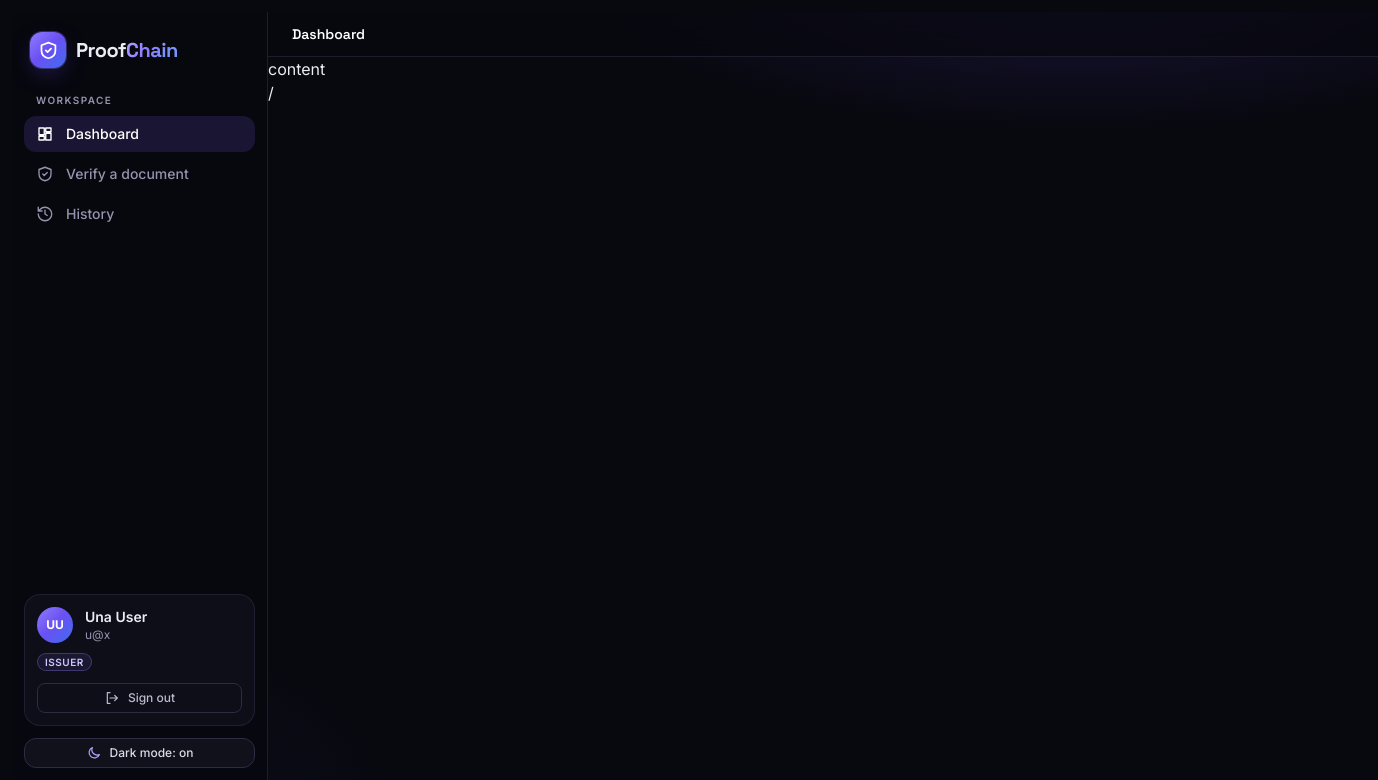
Scenario: AppShell user menu › sign out clears the session through the auth context and goes to /login
Click the button "Sign out" at (140, 698), box [37, 683, 242, 713]
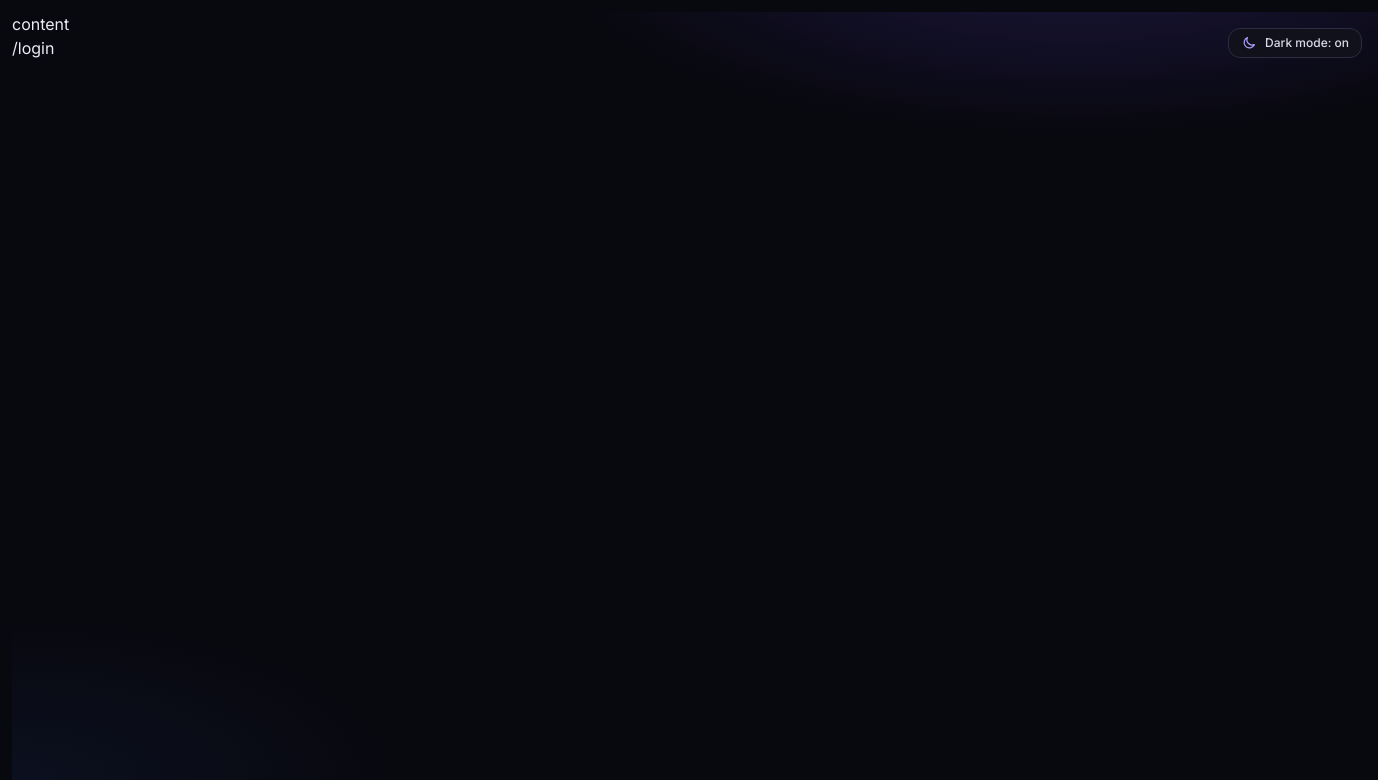
Now the text with test id "where" reads "/login", box [12, 38, 54, 58]
